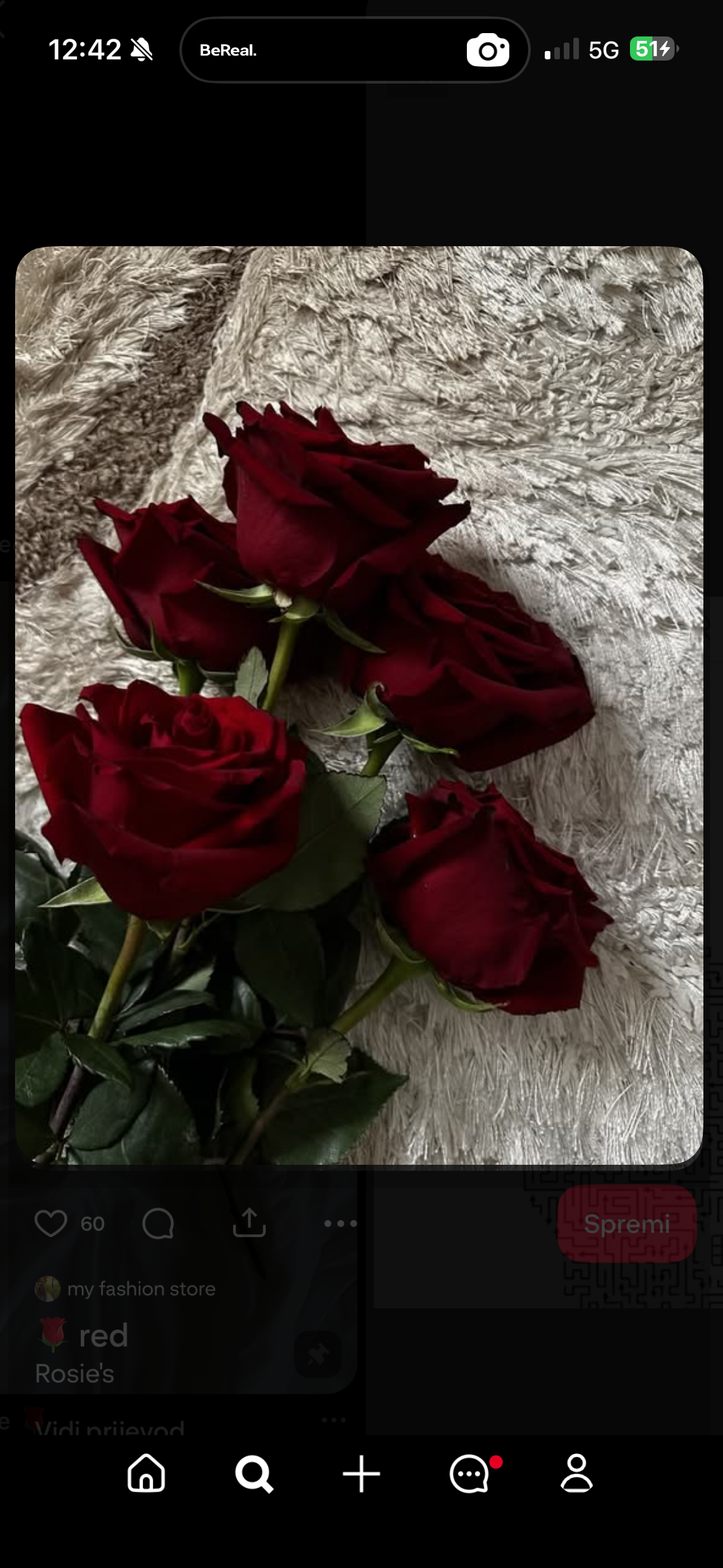rose: (16, 671, 309, 939), (311, 546, 601, 780), (364, 778, 617, 1020), (199, 395, 473, 610), (76, 489, 259, 682)
